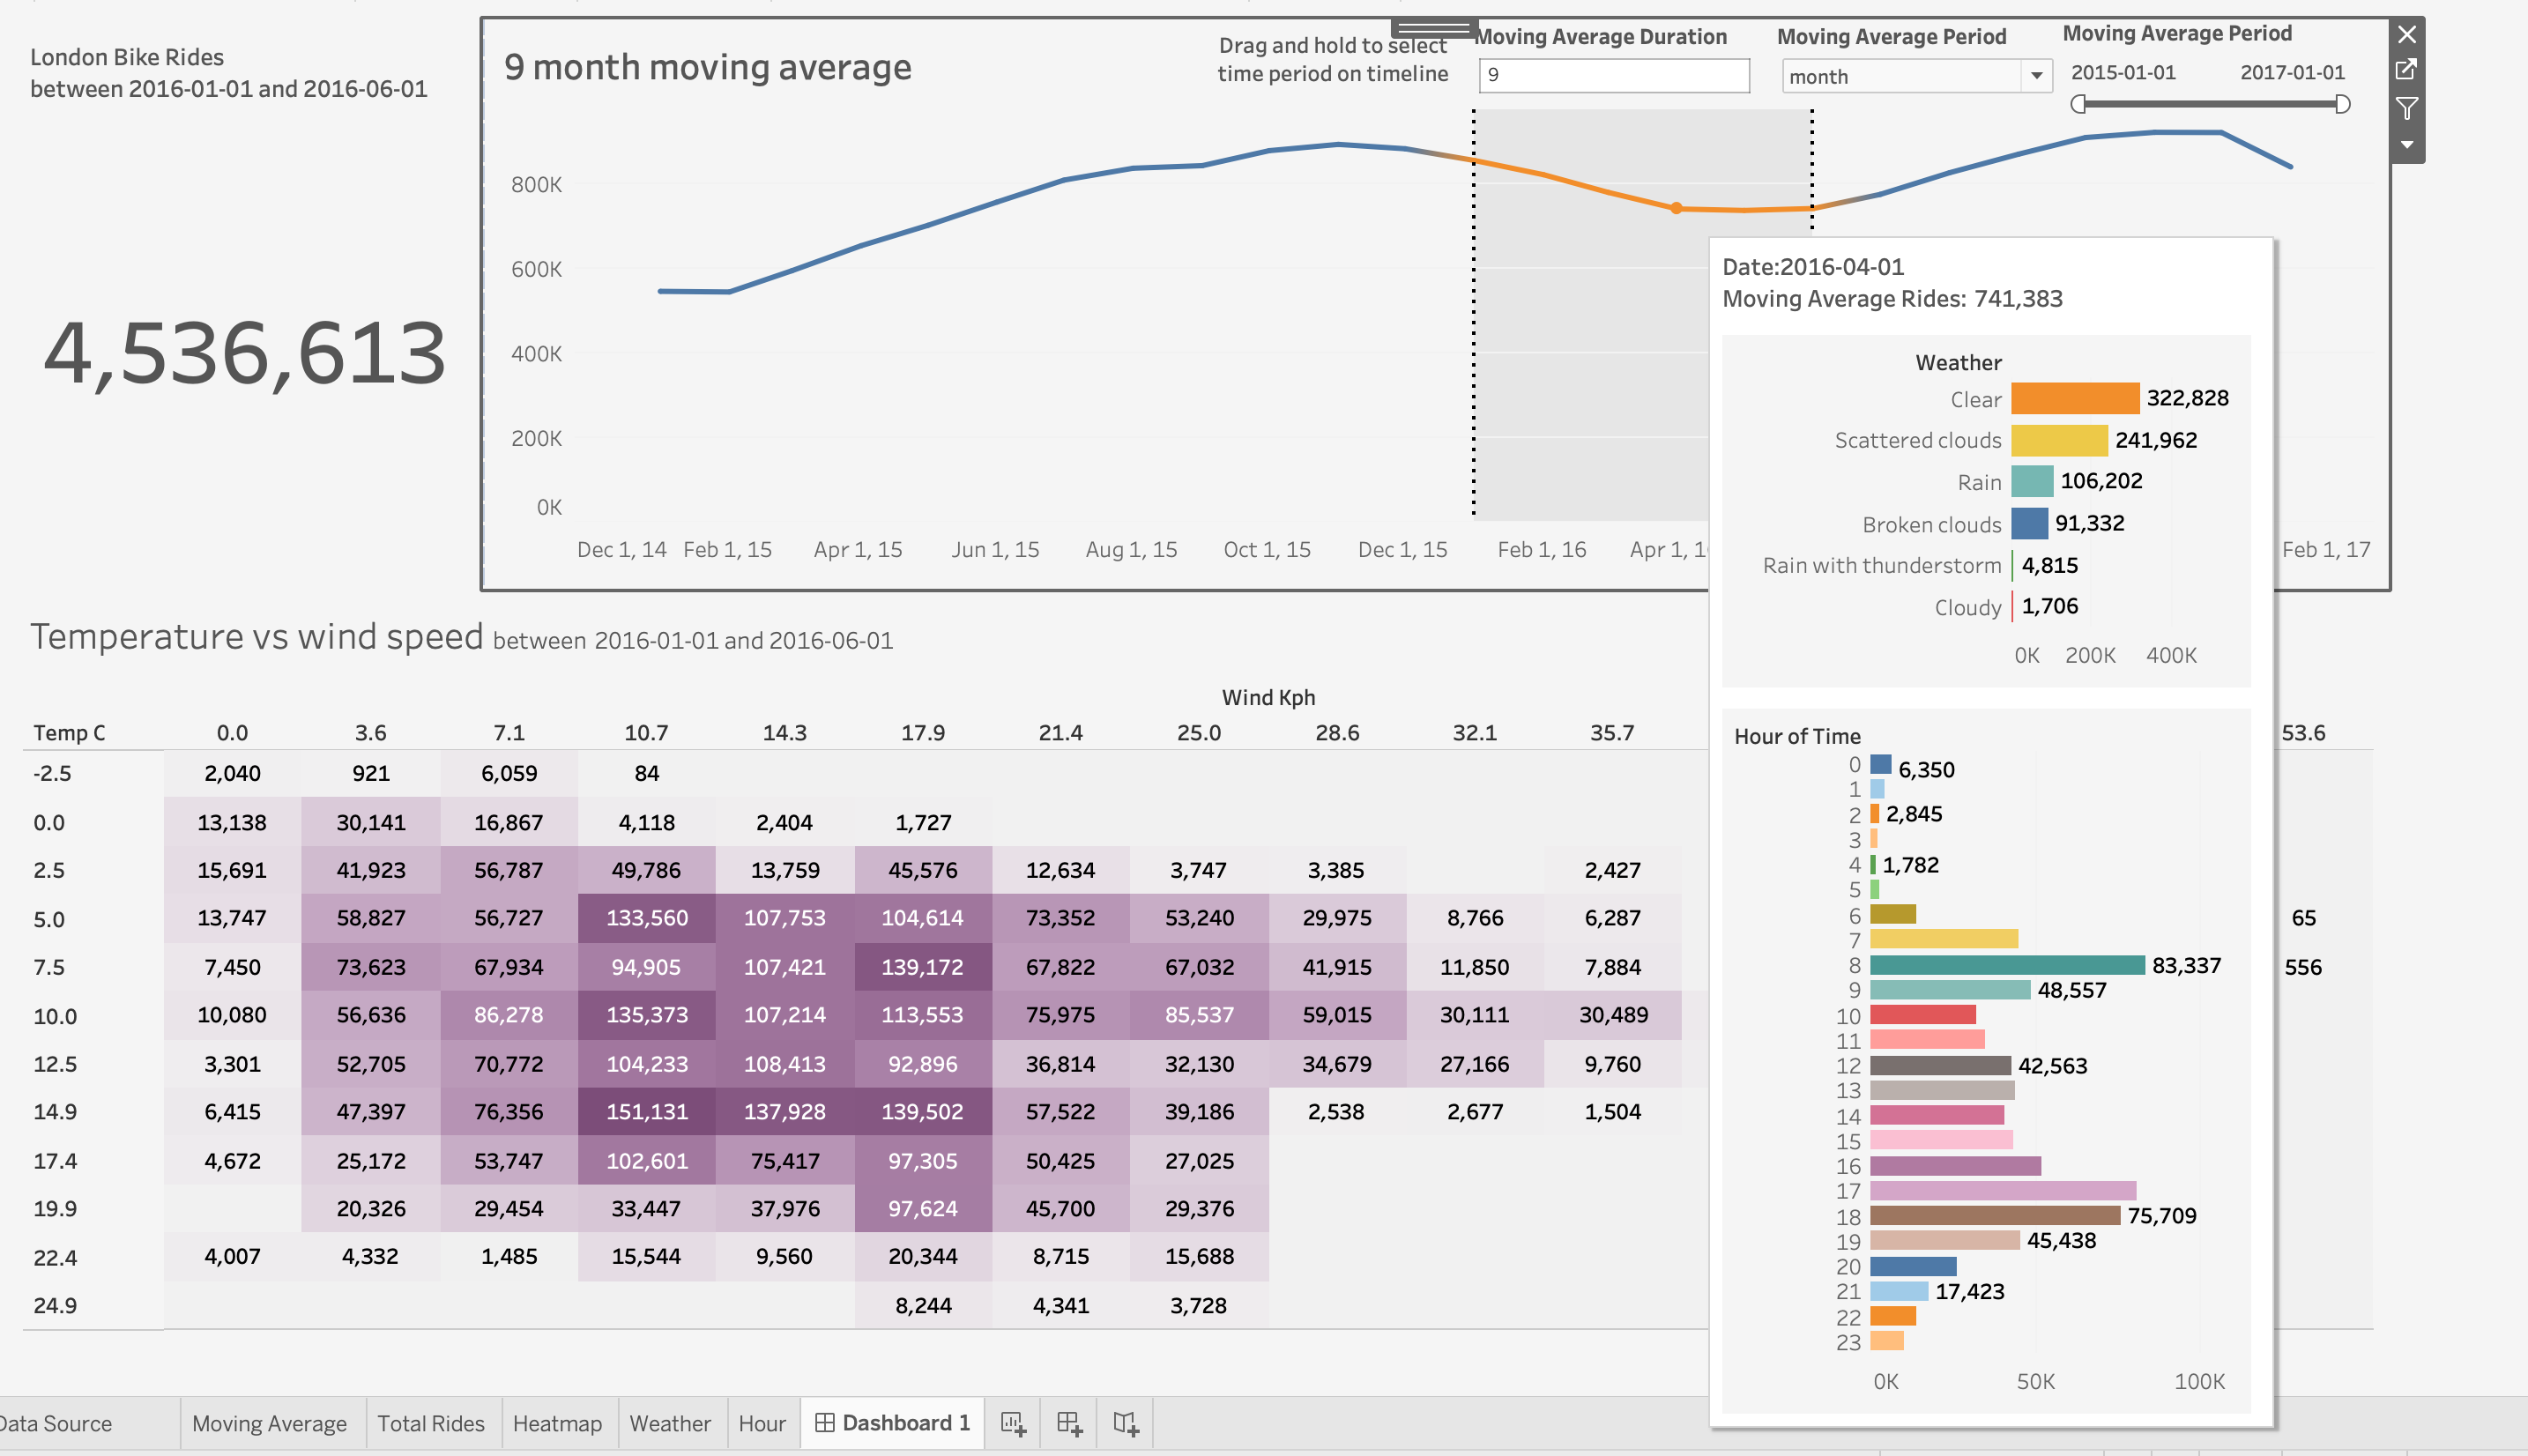

This screenshot's page, from the dashboard's own definition file:
{"tool":"tableau","page":{"name":"Dashboard 1","canvas":[1366,768],"ordinal":0},"visuals":[{"type":"filter","title":"Moving Average","param":"[federated.0wzzs1s1ii0isk16b4kpx07urhcz].[none:Calculation_640988899075260416:qk","box":[1173,7,168,69]},{"type":"worksheet","title":"Total Rides","mark":"Automatic","box":[8,8,269,323]},{"type":"worksheet","title":"Moving Average","mark":"Automatic","rows":["Calculation1"],"cols":["Calculation_640988899075260416"],"box":[277,8,1081,323]},{"type":"parameter","param":"[Parameters].[Parameter 2]","box":[839,9,160,44]},{"type":"parameter","param":"[Parameters].[Parameter 1]","box":[1011,9,160,44]},{"type":"text","box":[691,14,137,34]},{"type":"worksheet","title":"Heatmap","mark":"Square","rows":["temp real C (bin)"],"cols":["Wind Speed Kph (bin)"],"box":[8,331,1350,429]}]}

Visuals, with their boxes in screenshot pixels (x1, y1, x2, y2):
"Moving Average" filter: box(1946, 6, 2242, 127)
"Total Rides" worksheet: box(0, 8, 369, 576)
"Moving Average" worksheet: box(369, 8, 2272, 576)
parameter: box(1358, 10, 1640, 86)
parameter: box(1662, 10, 1943, 86)
text: box(1098, 18, 1339, 78)
"Heatmap" worksheet (Square marks): box(0, 576, 2272, 1331)
